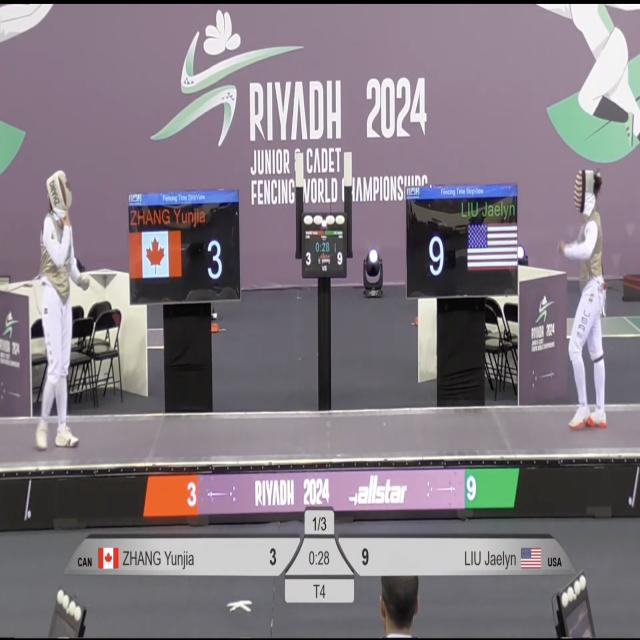fencer: (544, 162, 615, 436), (28, 163, 93, 459)
overlayLeft: (62, 532, 249, 577)
overlayRight: (376, 539, 573, 574)
scoreLeft: (254, 538, 301, 577)
scoreRight: (334, 539, 373, 574)
